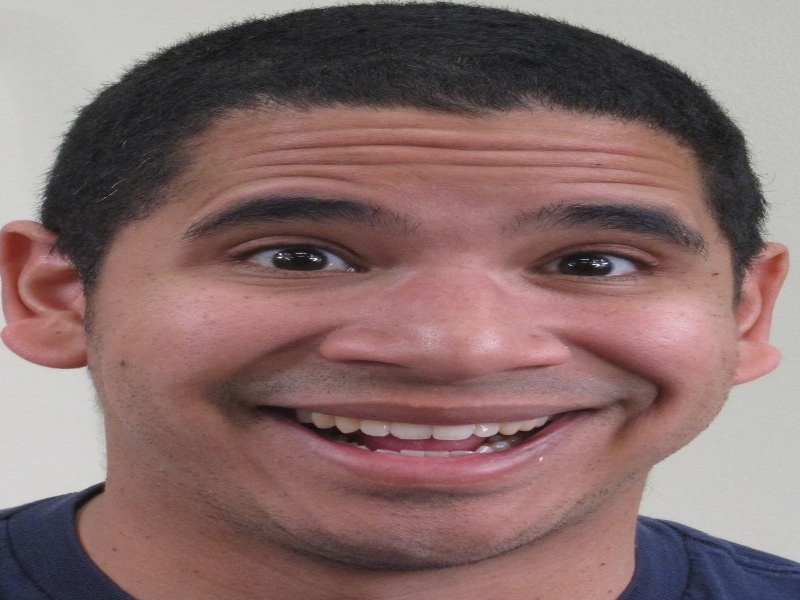face: (192, 125, 703, 521)
